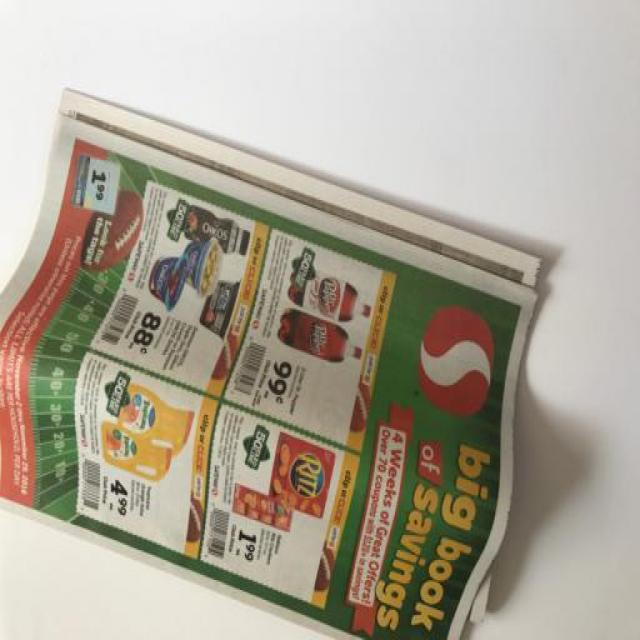paper: (8, 82, 547, 630)
